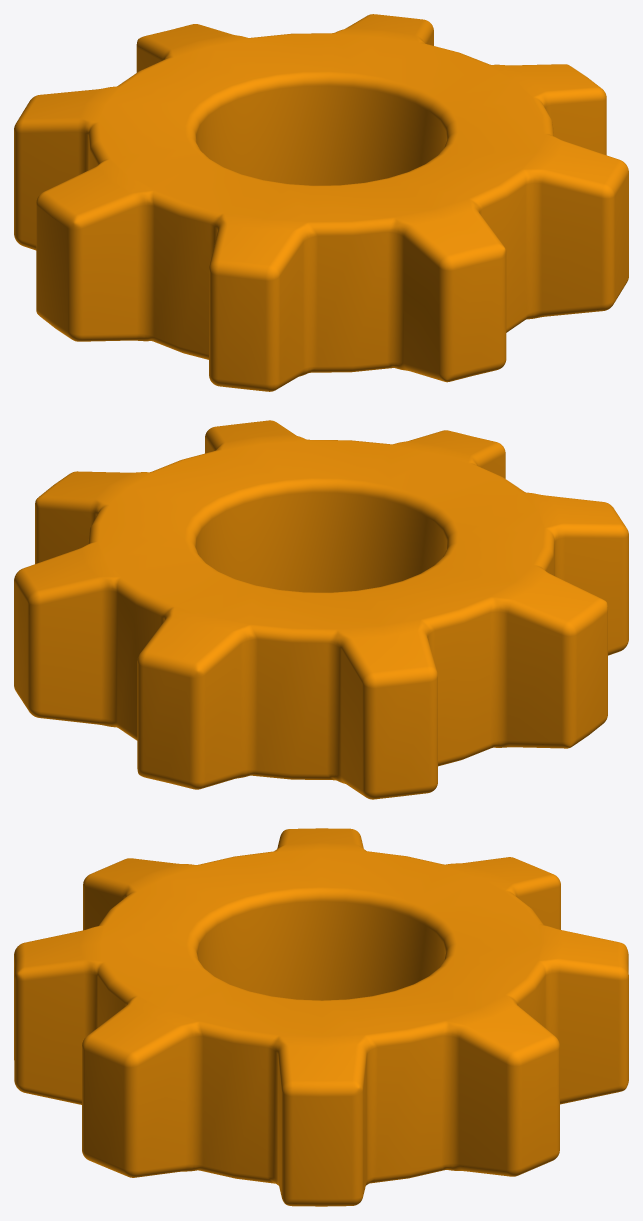
File: 원한주.gltf
The picture shows the model from 3 angles, top to bottom: view 1: azimuth 30°, elevation 25°; view 2: azimuth 150°, elevation 25°; view 3: azimuth 270°, elevation 25°; orthographic projection.
Parts seen in each view (by area): view 1: 원한주; view 2: 원한주; view 3: 원한주.
Part boxes in pixels (x1=…): 원한주: x1=14, y1=14, x2=628, y2=391; 원한주: x1=14, y1=420, x2=628, y2=799; 원한주: x1=14, y1=828, x2=628, y2=1206.
Size of the model in its own units: 1.7 by 0.4492 by 1.69.
